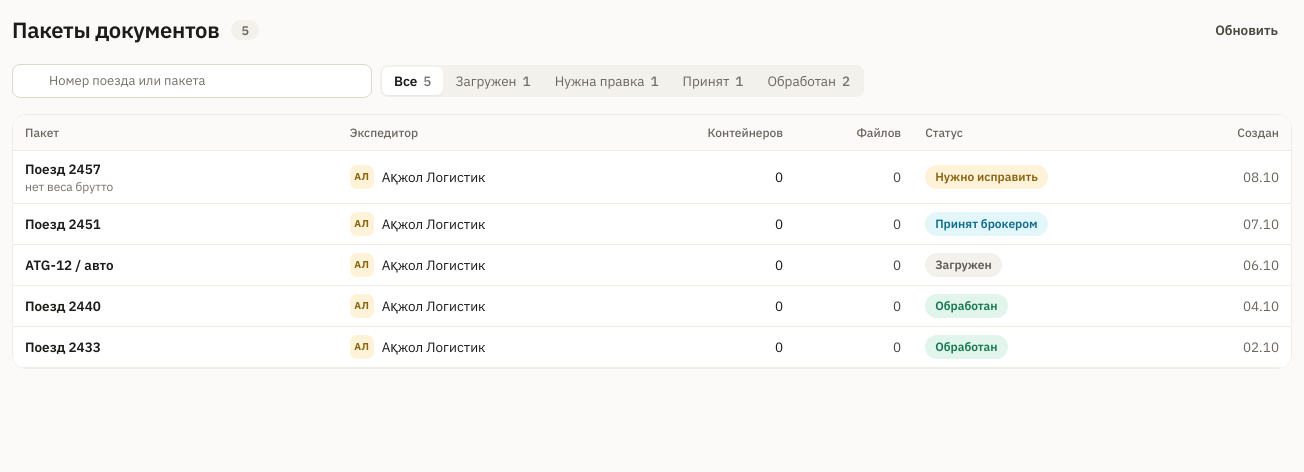
PackagesView: панель пакета › кнопка с номером поезда тоже открывает панель (с клавиатуры)
Step 1. Click the button "ATG-12 / авто" → point(69, 265), box [25,255,114,275]
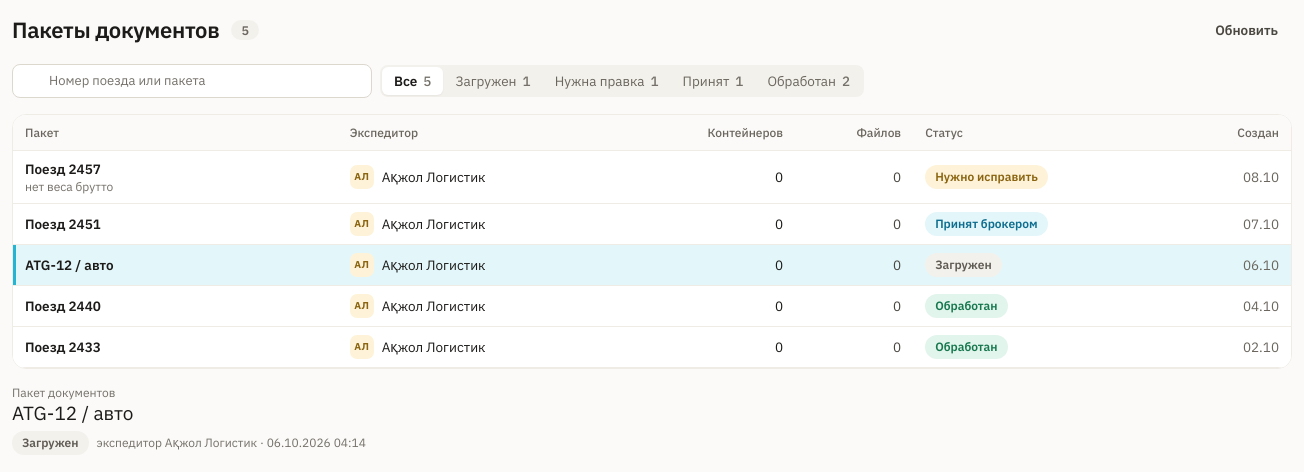
Expected: the text "ATG-12 / авто" is shown, [12,401,133,425]
